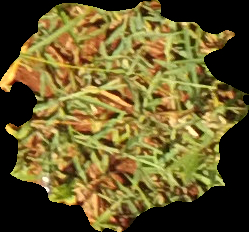grass: (1, 1, 248, 231)
